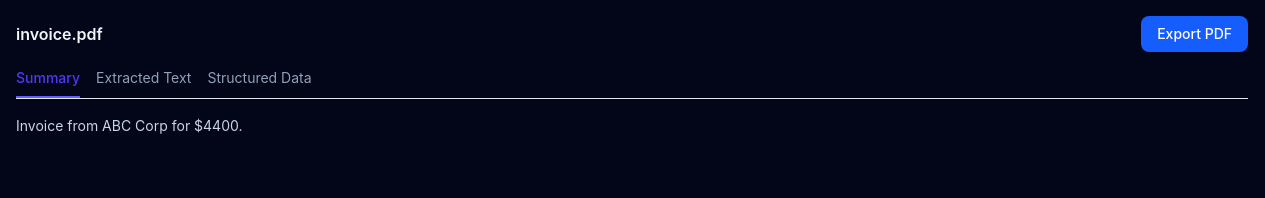
it: DocumentDetail › switches to extracted text tab
Step 1. Click the button "Extracted Text" → (144, 83), box [96,68,192,98]
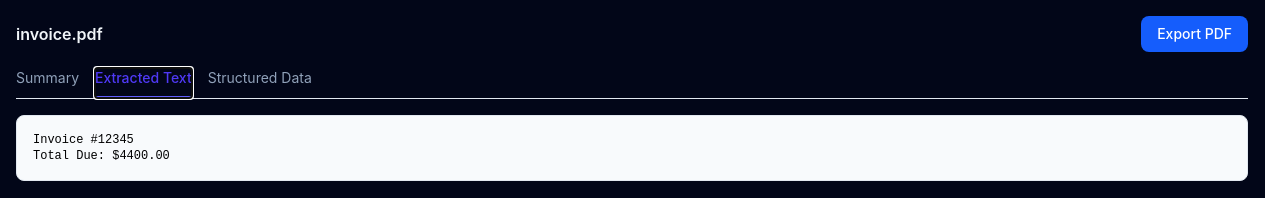
Check: the text "Invoice #12345 Total Due: $4400.00" is shown, box [16,115,1248,181]
